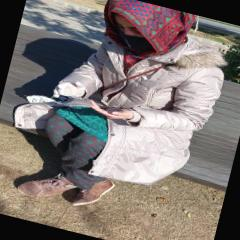gloved: (52, 76, 89, 104)
not-gloved: (88, 100, 134, 125)
